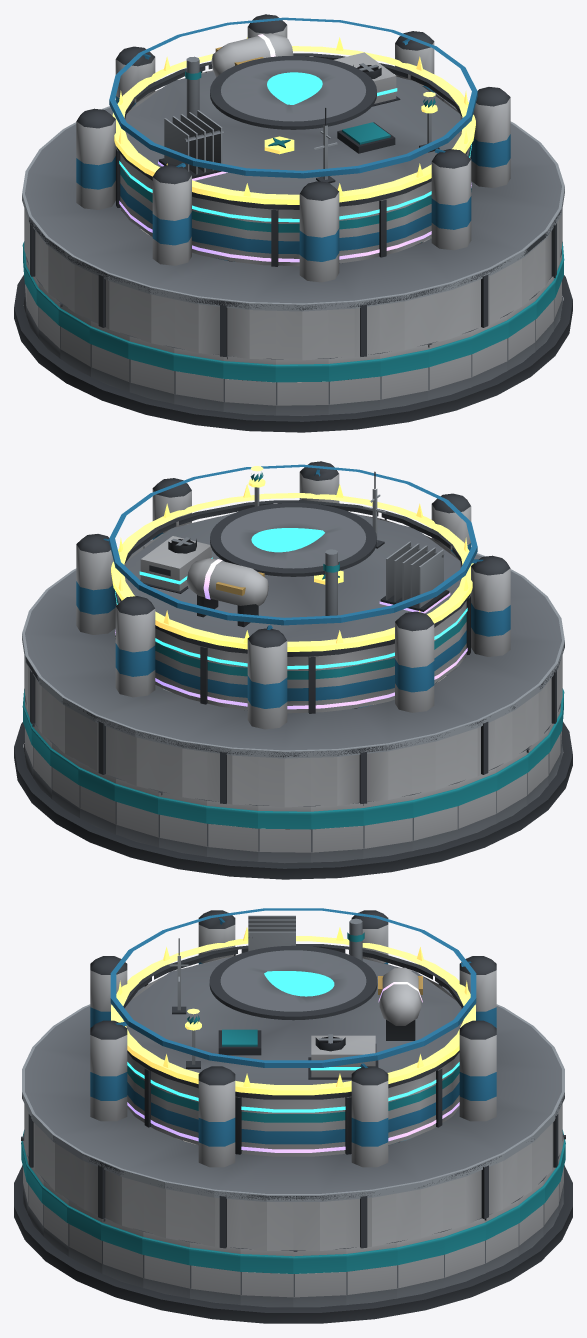
File: water_recycler_m_far.glb
3 renders of one model, top to bottom at view 1: azimuth 30°, elevation 25°; view 2: azimuth 150°, elevation 25°; view 3: azimuth 270°, elevation 25°, orthographic.
Parts seen in each view (by area): view 1: Roof, Base, L5, L2, L4, L3; view 2: Roof, Base, L4, L5, L2, L3; view 3: Roof, Base, L5, L2, L4, L3.
Part boxes in pixels (x1,y1,x2,y2): Roof: (24, 14, 562, 360); Base: (14, 187, 572, 432); L5: (112, 37, 475, 204); L2: (22, 92, 564, 311); L4: (119, 33, 471, 262); L3: (119, 52, 471, 222); Roof: (24, 461, 564, 807); Base: (14, 634, 572, 879); L4: (115, 541, 467, 709); L5: (111, 466, 473, 651); L2: (22, 471, 564, 758); L3: (115, 536, 467, 669); Roof: (22, 908, 564, 1250); Base: (14, 1107, 572, 1323); L5: (111, 927, 475, 1095); L2: (22, 938, 564, 1201); L4: (127, 915, 459, 1152); L3: (127, 1034, 459, 1112).
Size of the model in its own units: 11.74 by 5.92 by 11.74.
